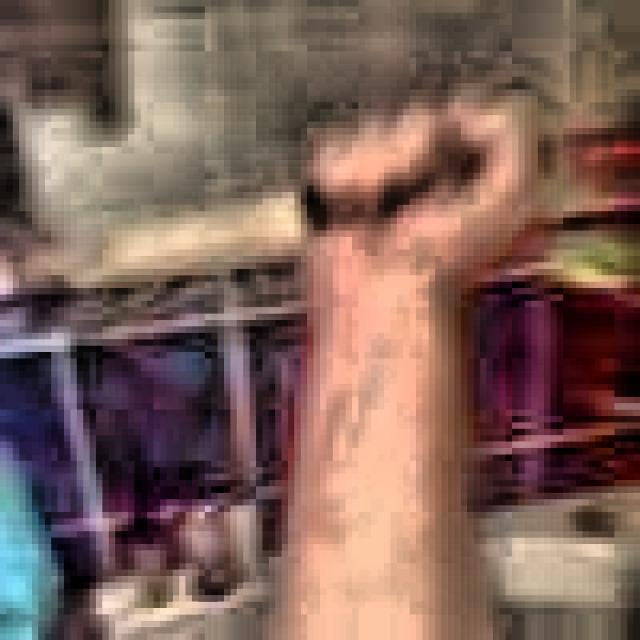knife: (73, 200, 324, 276)
